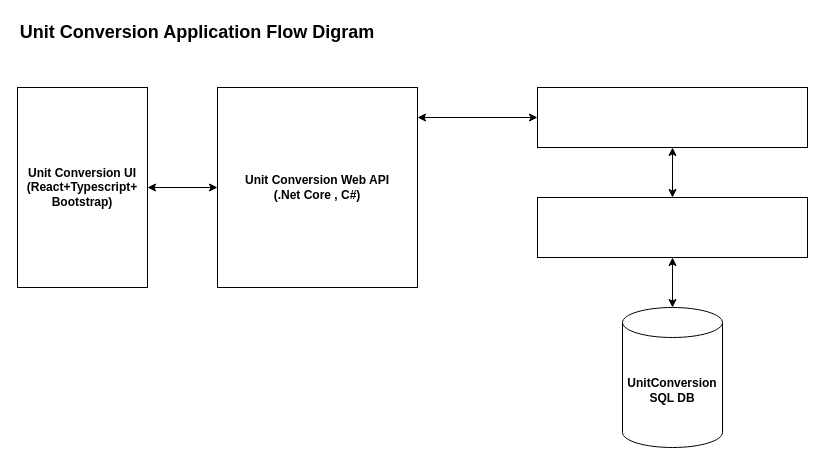
Some shapes in this 825 by 465 pixel diagram are drawn without their labels. Here are the shapes that lost their labels. From the top down, the centre of each, then its label:
At point 672,117: "Service Layer (Business Logic, DTO's)".
At point 672,227: "Data Layer (Repository, Data Models )".
